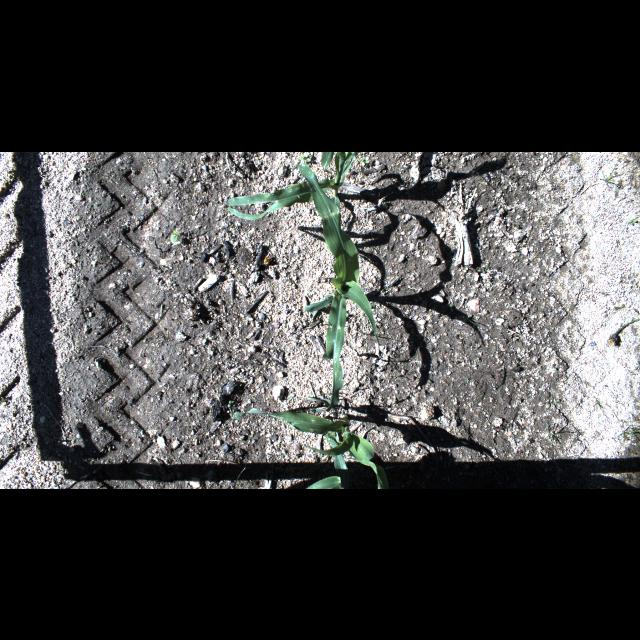crop: (292, 162, 380, 412), (231, 408, 389, 488), (226, 152, 360, 235), (306, 428, 354, 488), (170, 228, 182, 242)
weed: (608, 317, 640, 345), (598, 161, 624, 187), (312, 446, 336, 466), (622, 426, 640, 446), (544, 426, 564, 444), (468, 159, 484, 181), (326, 431, 346, 443), (298, 152, 312, 160), (614, 302, 626, 310), (594, 398, 602, 410), (627, 216, 637, 224), (359, 156, 369, 164), (346, 168, 354, 178), (225, 398, 232, 408), (0, 397, 6, 408), (448, 302, 454, 312), (466, 318, 476, 324), (554, 398, 560, 404), (371, 300, 377, 306), (481, 264, 489, 268), (552, 364, 556, 371), (465, 377, 469, 383), (476, 356, 479, 362)
